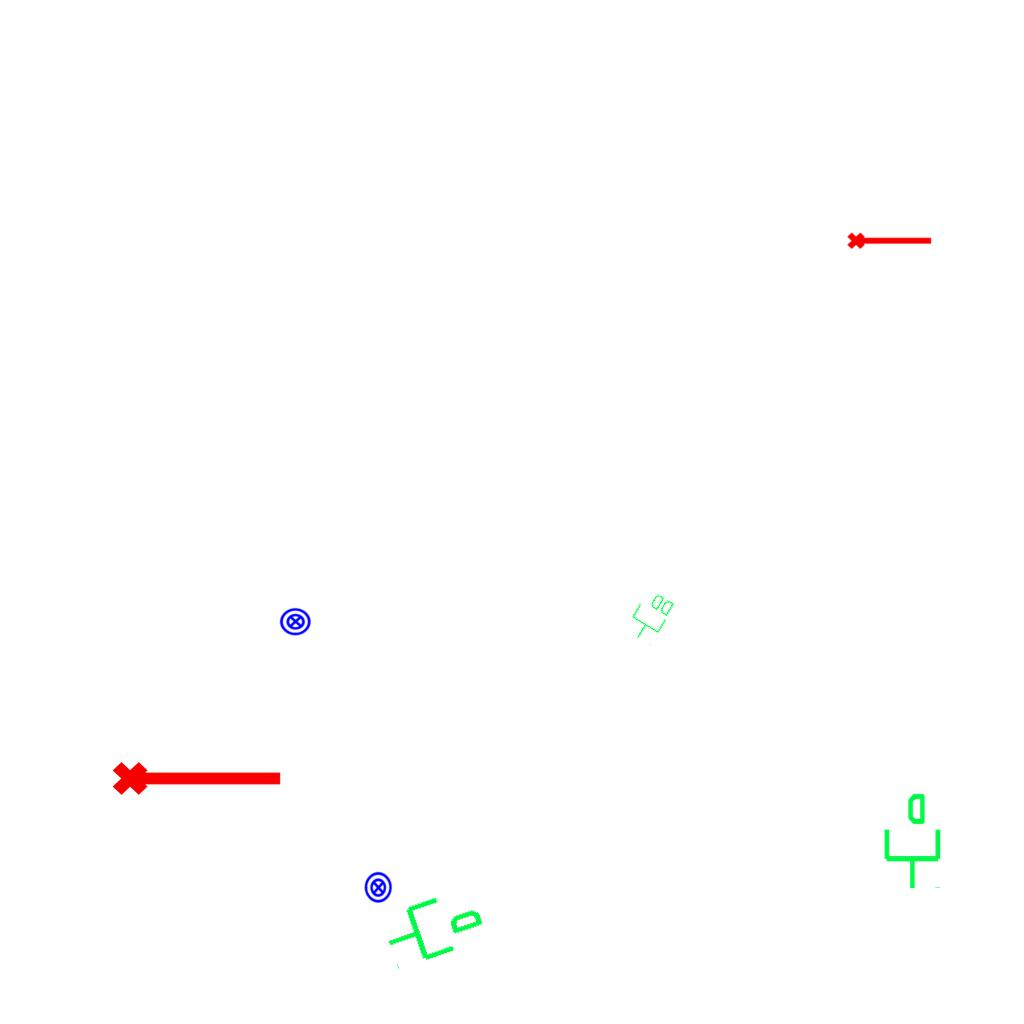ASR_Ansaugoeffnung: (110, 753, 286, 799), (846, 228, 934, 251)
Datenanschluss_einfach: (374, 877, 493, 975), (876, 791, 945, 891)
Datenanschluss_zweifach: (622, 586, 679, 648)
Taster_beleuchtet: (279, 605, 312, 638), (362, 871, 395, 904)
